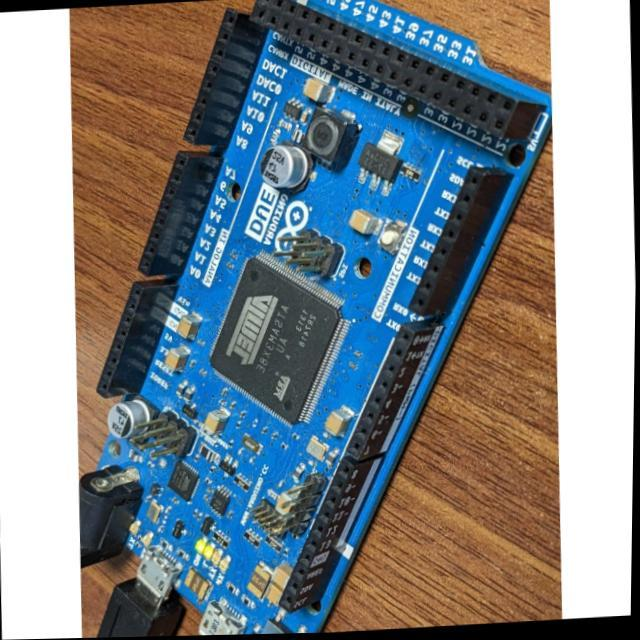Arduino-Due: (81, 1, 551, 634)
